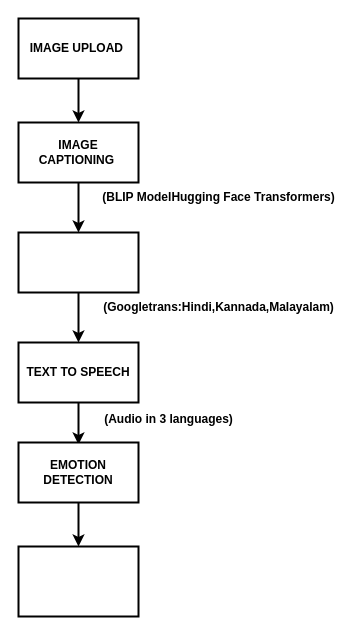
The diagram is 355 pixels wide and 634 high, and some of its shapes have lost their labels. The shapes that lost their labels are listed below. From the top down, each one's box as (x1, y1, x2, y2) in pixels, then its label:
(17, 231, 139, 293): TRANSLATION MODULE
(17, 545, 139, 617): RESULT (Image Captions, Translations Audio, Emotion detection
